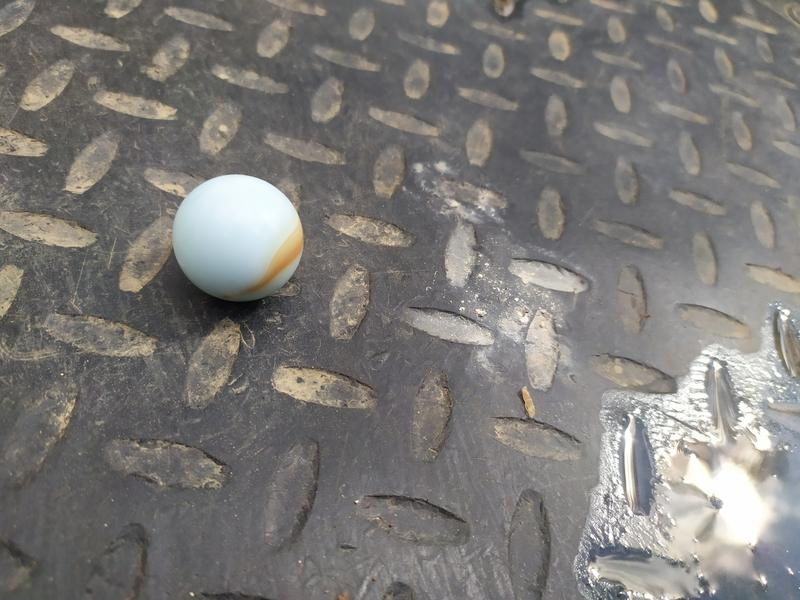Warning: (169, 170, 308, 305)
